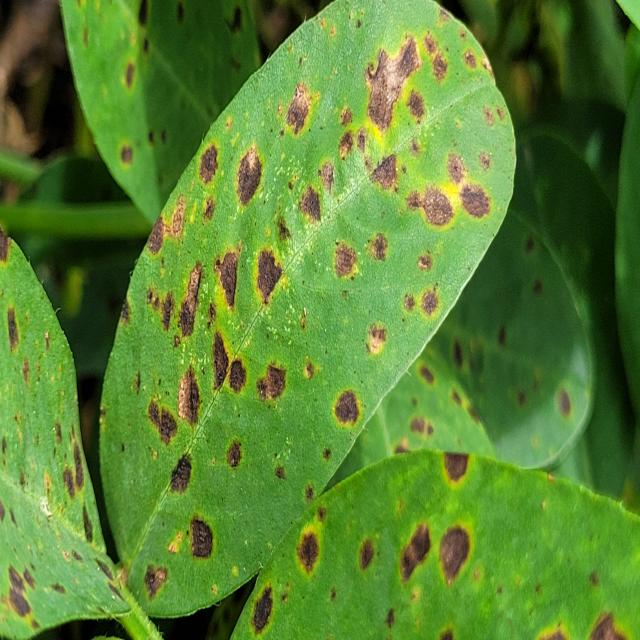Ground nut_tikka leaf spot: (98, 3, 515, 611)
